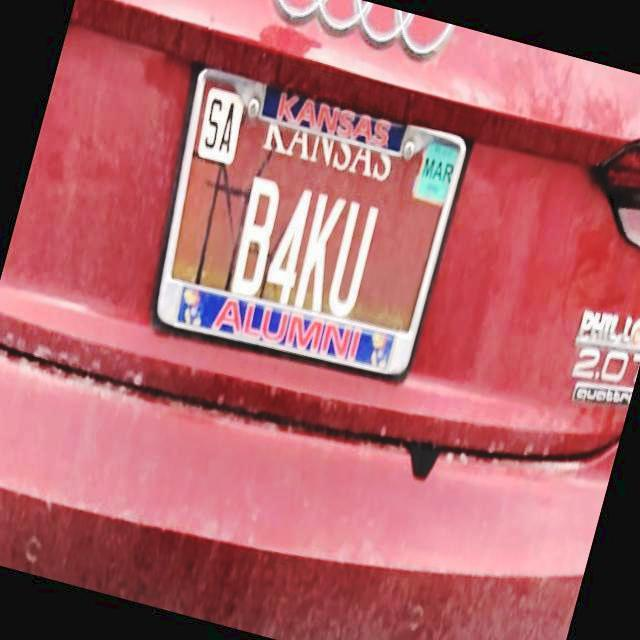license_plate: (160, 70, 472, 381)
